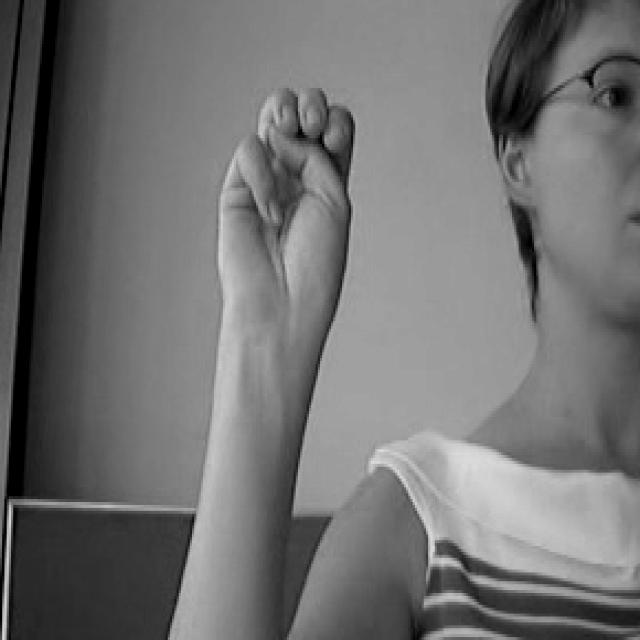M: (195, 69, 371, 339)
